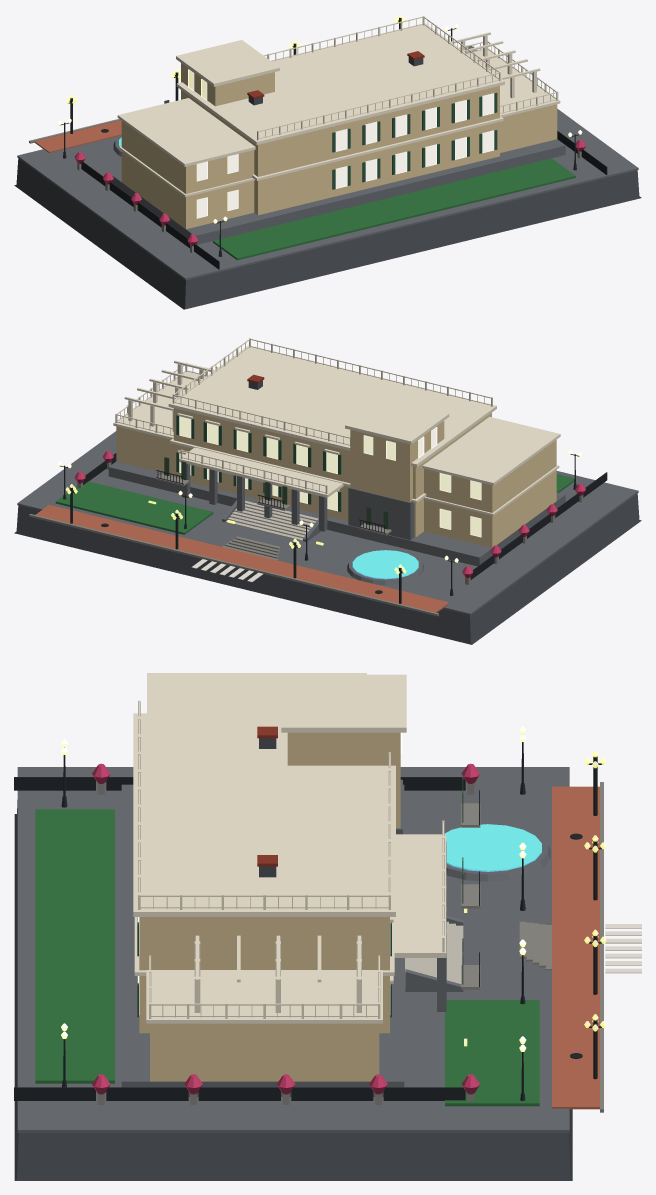
The model's file is lm_08_dinh_2.glb.
3 renders of one model, top to bottom at view 1: azimuth 30°, elevation 25°; view 2: azimuth 150°, elevation 25°; view 3: azimuth 270°, elevation 25°, orthographic. The views are drawn at different scales.
Parts seen in each view (by area): view 1: Dinh2_Cream_Cornice_Moldings, Dinh2_Washed_Sandstone_Walls, Foundation_Skirt, Foundation_Plinth_Trim, Dinh2_Garden_Lawns, Dinh2_Granite_Ashlar_Masonry, Dinh2_25Rooms_Windows_Glow, Dinh2_RoofDeck_Balustrade, Dinh2_Green_Timber_Shutters, Phase2_WroughtIron_Balconies_Railings_Manholes, Phase2_Interlocking_Brick_Sidewalk, Dinh2_East_Veranda_Balustrade (+2 smaller); view 2: Dinh2_Cream_Cornice_Moldings, Dinh2_Washed_Sandstone_Walls, Foundation_Plinth_Trim, Foundation_Skirt, Dinh2_Granite_Ashlar_Masonry, Phase2_Interlocking_Brick_Sidewalk, Dinh2_Garden_Lawns, Dinh2_25Rooms_Windows_Glow, Phase2_Granite_Curb_And_Entry_Steps, Dinh2_RoofDeck_Balustrade, Phase2_WroughtIron_Balconies_Railings_Manholes, Dinh2_Grand_Front_Steps (+7 smaller); view 3: Dinh2_Cream_Cornice_Moldings, Foundation_Plinth_Trim, Dinh2_Garden_Lawns, Dinh2_Washed_Sandstone_Walls, Foundation_Skirt, Dinh2_Granite_Ashlar_Masonry, Phase2_Interlocking_Brick_Sidewalk, Phase2_WroughtIron_Balconies_Railings_Manholes, Phase2_Granite_Curb_And_Entry_Steps, Dinh2_Garden_Fountain_Water, Dinh2_RoofDeck_Balustrade, Dinh2_East_Veranda_Balustrade (+5 smaller).
Boxes of the visible parts, x1,y1,x2,y2 form: Dinh2_Cream_Cornice_Moldings: (117, 23, 560, 197); Dinh2_Washed_Sandstone_Walls: (121, 63, 557, 229); Foundation_Skirt: (14, 158, 641, 309); Foundation_Plinth_Trim: (17, 46, 638, 280); Dinh2_Garden_Lawns: (213, 158, 575, 260); Dinh2_Granite_Ashlar_Masonry: (110, 134, 565, 244); Dinh2_25Rooms_Windows_Glow: (188, 69, 494, 218); Dinh2_RoofDeck_Balustrade: (257, 16, 500, 140); Dinh2_Green_Timber_Shutters: (332, 92, 497, 189); Phase2_WroughtIron_Balconies_Railings_Manholes: (68, 17, 607, 269); Phase2_Interlocking_Brick_Sidewalk: (34, 120, 121, 152); Dinh2_East_Veranda_Balustrade: (459, 40, 558, 113); Dinh2_Cream_Cornice_Moldings: (113, 345, 560, 515); Dinh2_Washed_Sandstone_Walls: (116, 408, 556, 547); Foundation_Plinth_Trim: (17, 431, 638, 615); Foundation_Skirt: (14, 493, 641, 644); Dinh2_Granite_Ashlar_Masonry: (108, 461, 565, 585); Phase2_Interlocking_Brick_Sidewalk: (35, 504, 449, 612); Dinh2_Garden_Lawns: (55, 474, 574, 534); Dinh2_25Rooms_Windows_Glow: (179, 416, 481, 537); Phase2_Granite_Curb_And_Entry_Steps: (29, 462, 583, 616); Dinh2_RoofDeck_Balustrade: (172, 338, 492, 446); Phase2_WroughtIron_Balconies_Railings_Manholes: (70, 453, 607, 603); Dinh2_Grand_Front_Steps: (225, 500, 318, 541); Dinh2_Cream_Cornice_Moldings: (133, 673, 446, 1023); Foundation_Plinth_Trim: (17, 767, 569, 1132); Dinh2_Garden_Lawns: (35, 809, 539, 1106); Dinh2_Washed_Sandstone_Walls: (139, 732, 400, 1081); Foundation_Skirt: (14, 800, 572, 1180); Dinh2_Granite_Ashlar_Masonry: (121, 779, 550, 1096); Phase2_Interlocking_Brick_Sidewalk: (552, 786, 599, 1109); Phase2_WroughtIron_Balconies_Railings_Manholes: (14, 756, 602, 1100); Phase2_Granite_Curb_And_Entry_Steps: (97, 782, 603, 1112); Dinh2_Garden_Fountain_Water: (444, 824, 541, 871); Dinh2_RoofDeck_Balustrade: (138, 700, 390, 909); Dinh2_East_Veranda_Balustrade: (149, 955, 380, 1018).
Size of the model in its own units: 56.81 by 16.5 by 41.11.
